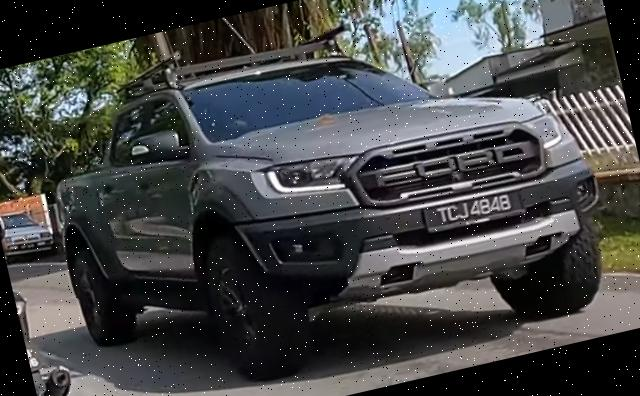License_Plate: (421, 184, 527, 237)
car: (24, 1, 625, 396)
